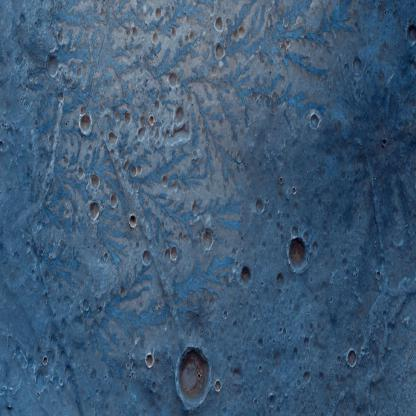craters: (172, 334, 212, 416), (285, 233, 316, 282), (42, 45, 65, 85), (340, 342, 364, 379), (219, 306, 244, 340), (74, 104, 96, 142), (236, 263, 257, 294), (74, 290, 94, 320), (232, 360, 250, 392), (86, 175, 108, 197), (172, 100, 188, 130), (164, 68, 181, 94), (404, 23, 416, 59), (201, 218, 212, 257), (252, 191, 268, 217), (300, 366, 314, 394), (278, 35, 295, 58), (104, 130, 123, 149), (274, 267, 289, 291), (212, 41, 228, 63), (127, 162, 145, 181), (150, 5, 167, 25), (306, 114, 323, 133), (116, 286, 133, 305), (118, 108, 134, 128), (87, 200, 102, 221), (145, 114, 161, 133), (231, 25, 247, 44), (170, 238, 178, 275), (10, 50, 27, 67), (54, 87, 67, 109), (288, 182, 301, 204), (101, 249, 112, 275), (143, 350, 157, 370), (213, 12, 226, 33), (40, 349, 50, 376), (54, 28, 68, 47), (108, 190, 119, 214), (302, 333, 316, 351), (150, 29, 162, 50), (265, 390, 279, 408), (146, 379, 159, 397), (127, 212, 138, 233), (17, 13, 29, 32), (214, 378, 224, 400), (136, 123, 148, 141), (184, 27, 195, 46), (5, 124, 15, 143), (144, 252, 154, 270), (273, 174, 285, 188), (250, 336, 265, 347), (74, 63, 84, 79), (166, 26, 180, 36), (0, 136, 5, 162), (162, 176, 172, 189), (190, 205, 202, 213), (262, 362, 266, 376)
